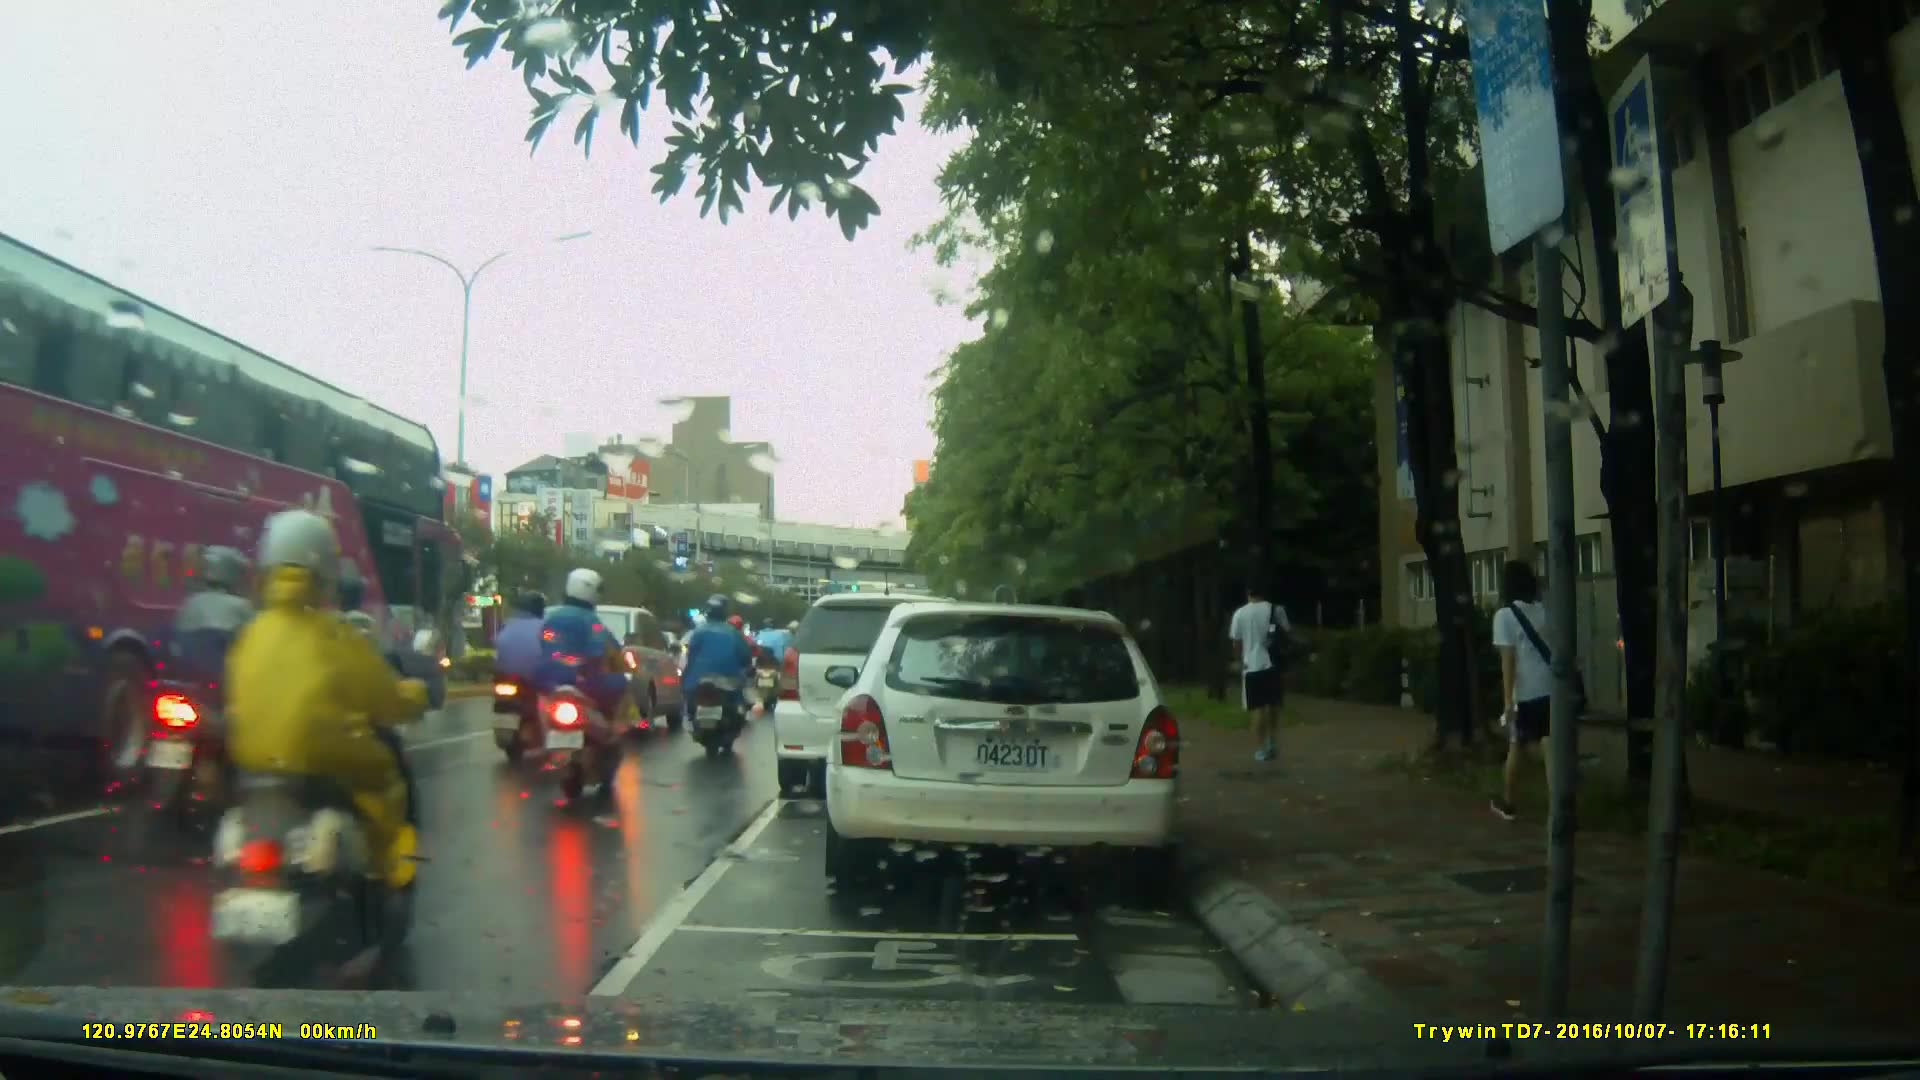pedestrian: (1477, 560, 1577, 843), (1217, 574, 1297, 770)
rider: (209, 503, 427, 999), (139, 548, 290, 842), (528, 567, 637, 813), (496, 588, 582, 771), (685, 597, 749, 761), (713, 609, 766, 718), (750, 614, 790, 699)
vehicle: (1, 243, 468, 790), (835, 594, 1194, 898), (776, 590, 1026, 784), (522, 603, 695, 746)
